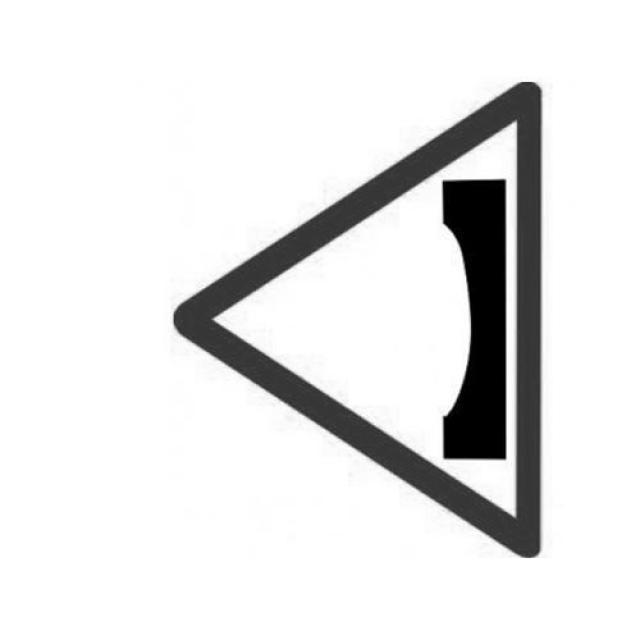dangerous dip: (174, 76, 546, 566)
